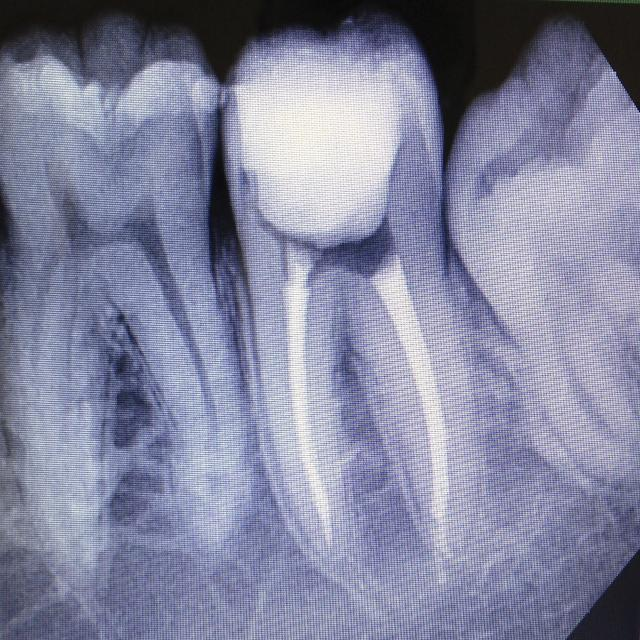Caries: (223, 16, 446, 584)
